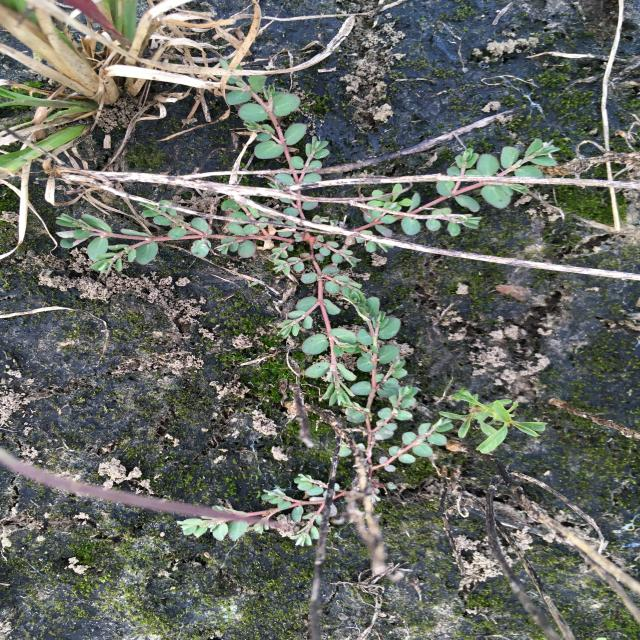SpottedSpurge: (52, 56, 564, 409), (174, 287, 458, 547)
Waterhemp: (443, 382, 552, 457)
